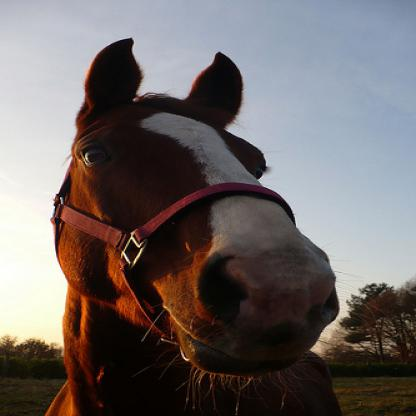horse: (45, 39, 342, 415)
